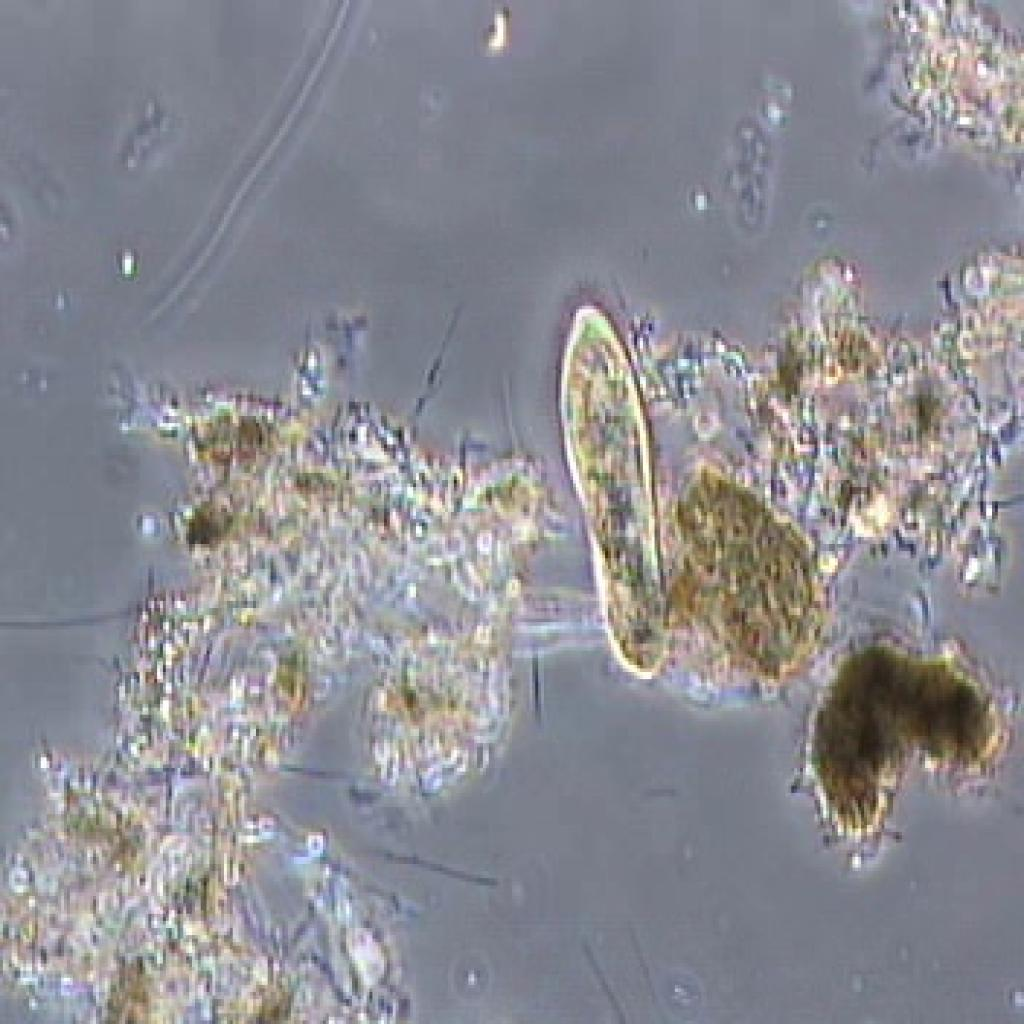Paramecium: (531, 293, 691, 681)
